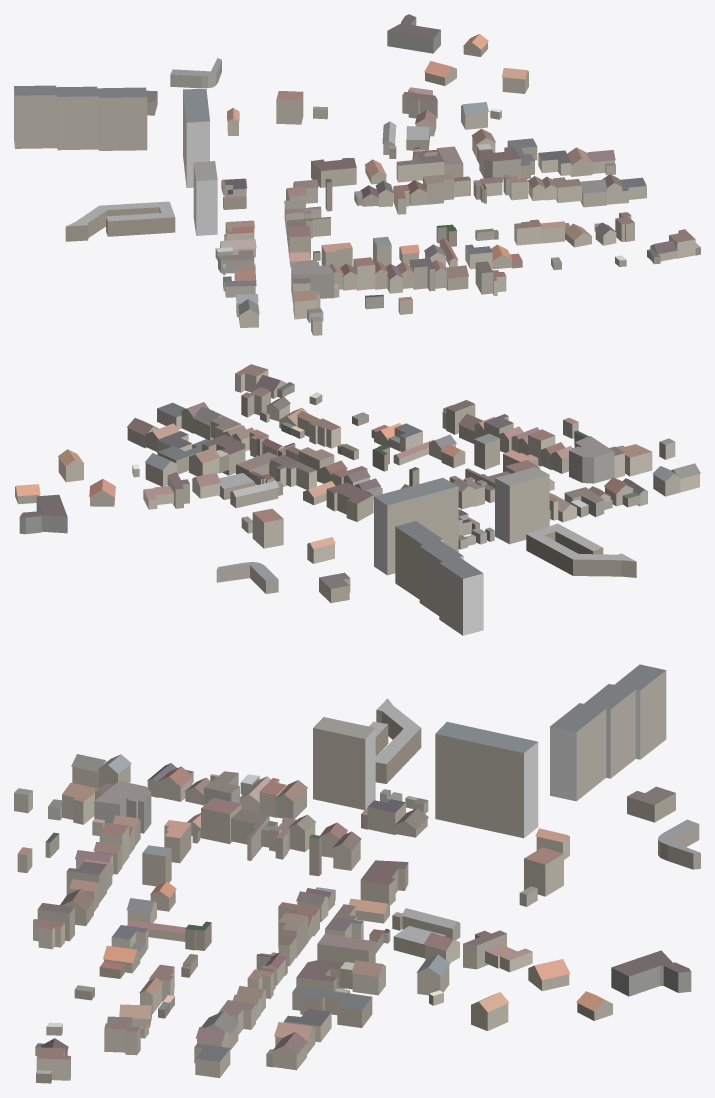
3 views of the same model, one above another, from view 1: azimuth 30°, elevation 25°; view 2: azimuth 150°, elevation 25°; view 3: azimuth 270°, elevation 25° (orthographic). The views are drawn at different scales.
Parts seen in each view (by area): view 1: tuile; view 2: tuile; view 3: tuile.
Boxes of the visible parts, bbox=[...] form: tuile: bbox=[14, 14, 700, 335]; tuile: bbox=[15, 364, 700, 635]; tuile: bbox=[14, 664, 700, 1083].
Bounding box in the file's own units: 286 × 55.17 × 255.
